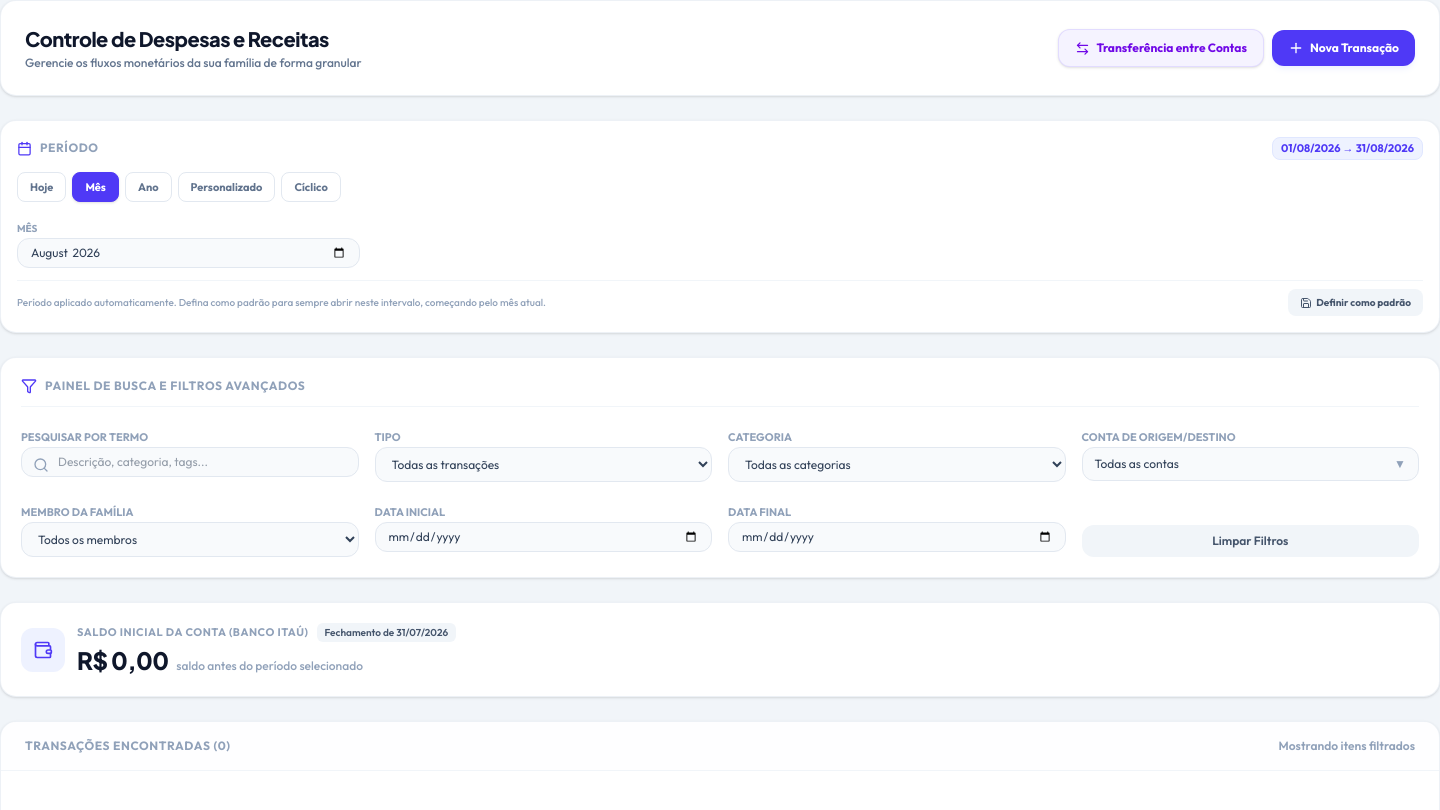
it: TransactionsManager › re-atribui a fatura quando a data cruza o dia de fechamento
Click the button with id "add-tx-btn" at (1343, 48), box [1272, 30, 1415, 66]
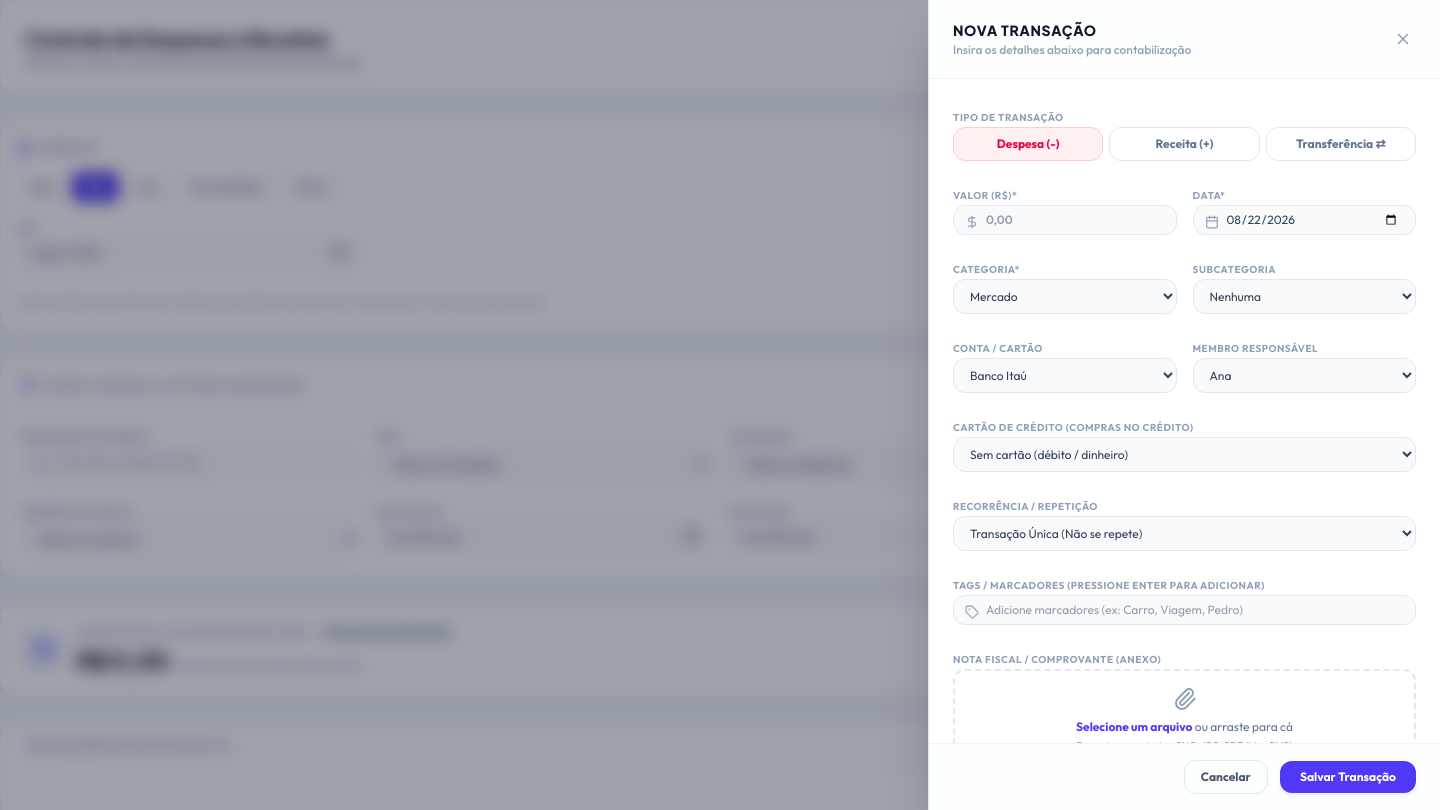
Type "2026-08-10" into the date field with id "tx-form-date" at (1304, 220), box [1192, 205, 1416, 235]
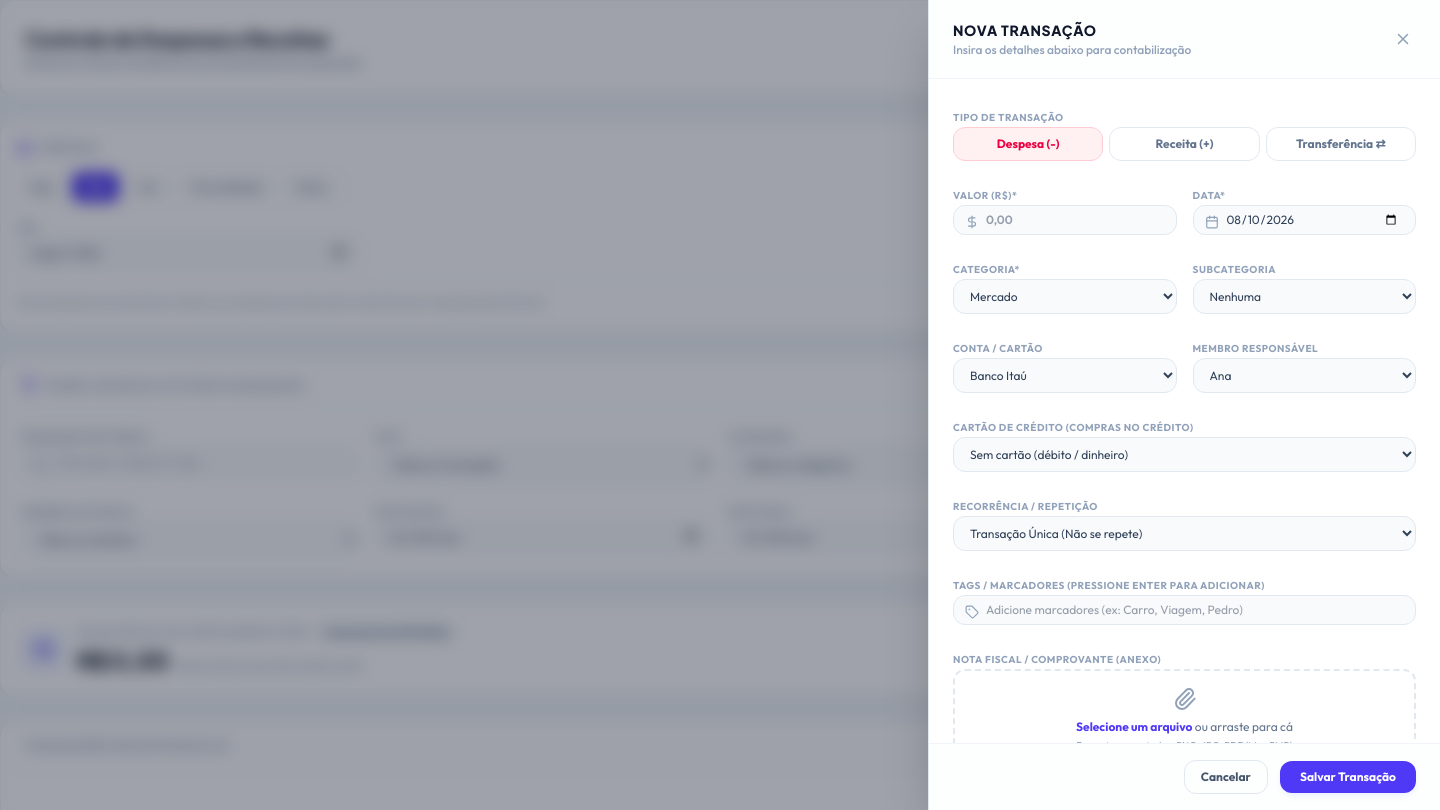
Select "Nubank" in the dropdown with id "tx-form-credit-card" at (1184, 454), box [953, 437, 1416, 472]
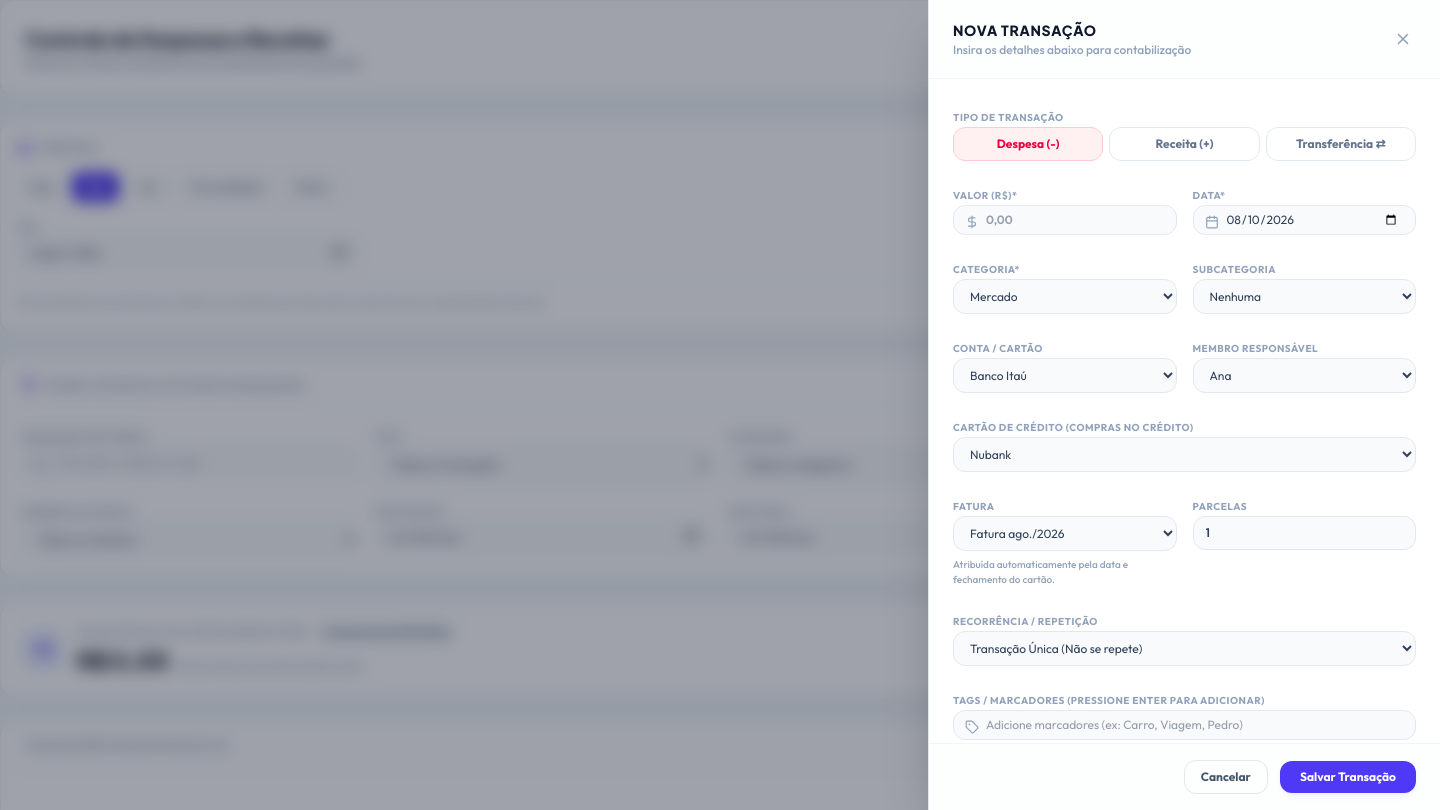
Now the dropdown with id "tx-form-invoice" shows "Fatura ago./2026", box [953, 516, 1176, 551]
Type "2026-08-22" into the date field with id "tx-form-date" at (1304, 220), box [1192, 205, 1416, 235]
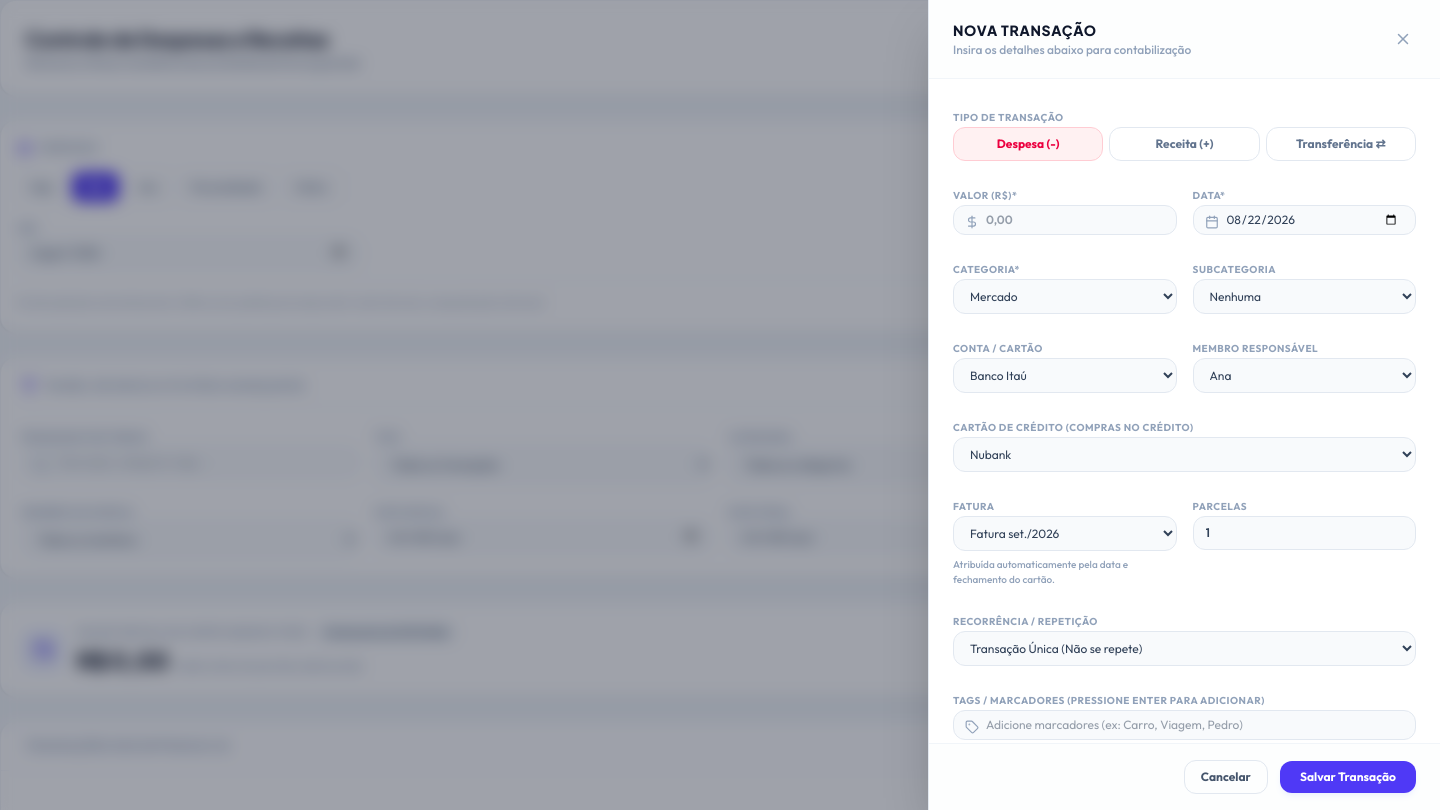
Now the dropdown with id "tx-form-invoice" shows "Fatura set./2026", box [953, 516, 1176, 551]
